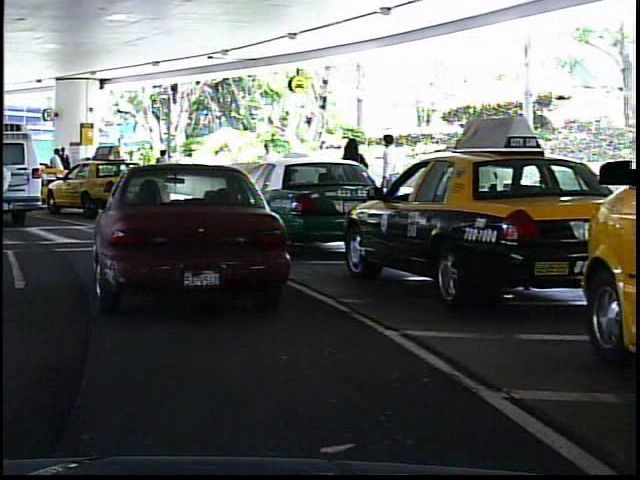person: (331, 130, 368, 231), (374, 128, 406, 229), (253, 135, 282, 209), (147, 144, 173, 198), (44, 147, 63, 198), (55, 144, 71, 196)
